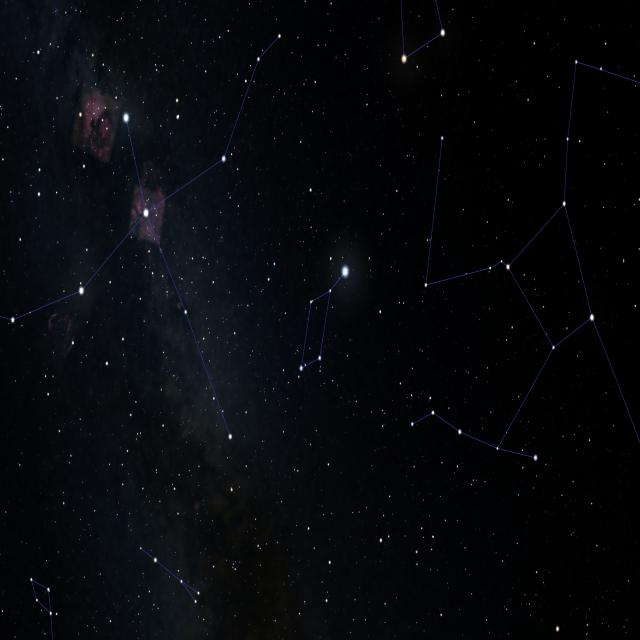Lyra: (289, 257, 353, 382)
